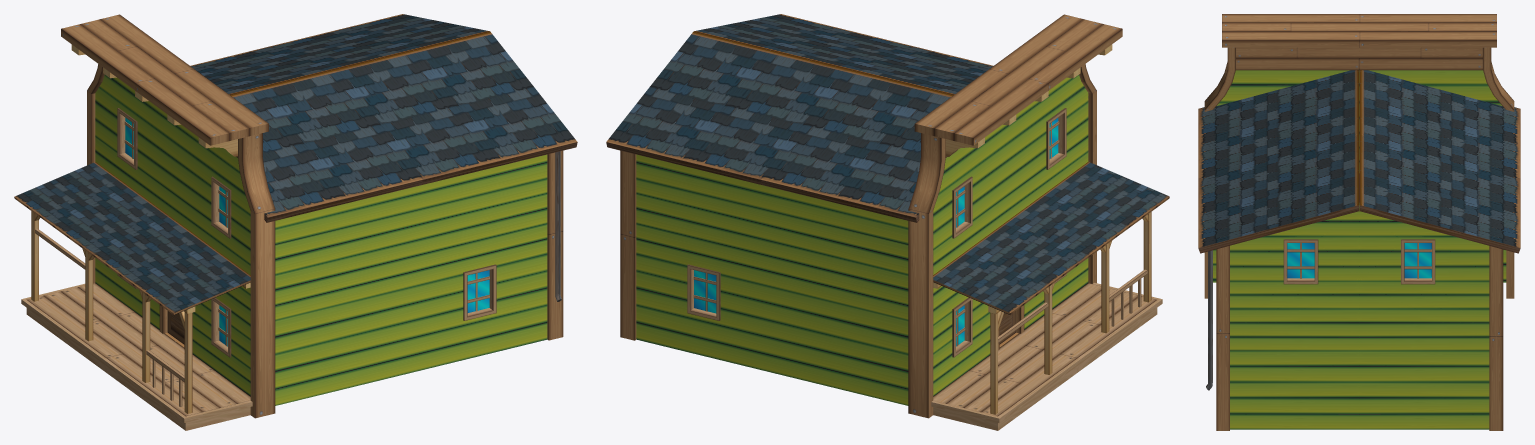
Rendered from House_03.FBX.
3 renders of one model, left to right at view 1: azimuth 30°, elevation 25°; view 2: azimuth 150°, elevation 25°; view 3: azimuth 270°, elevation 25°, orthographic. The views are drawn at different scales.
Parts seen in each view (by area): view 1: Wall, Roof, Front, Frontage, Glass; view 2: Wall, Roof, Front, Frontage, Glass; view 3: Wall, Roof, Front, Glass.
Boxes of the visible parts, x1=… form: Wall: x1=275, y1=150, x2=563, y2=405; Roof: x1=190, y1=14, x2=577, y2=222; Front: x1=61, y1=14, x2=275, y2=418; Frontage: x1=14, y1=162, x2=252, y2=430; Glass: x1=125, y1=117, x2=489, y2=346; Wall: x1=620, y1=150, x2=908, y2=405; Roof: x1=606, y1=14, x2=993, y2=222; Front: x1=908, y1=14, x2=1122, y2=418; Frontage: x1=931, y1=162, x2=1169, y2=430; Glass: x1=694, y1=118, x2=1058, y2=346; Wall: x1=1206, y1=173, x2=1503, y2=430; Roof: x1=1198, y1=70, x2=1520, y2=253; Front: x1=1204, y1=14, x2=1514, y2=298; Glass: x1=1287, y1=243, x2=1431, y2=278.
Bounding box in the file's own units: 11.49 × 7.82 × 8.79.
